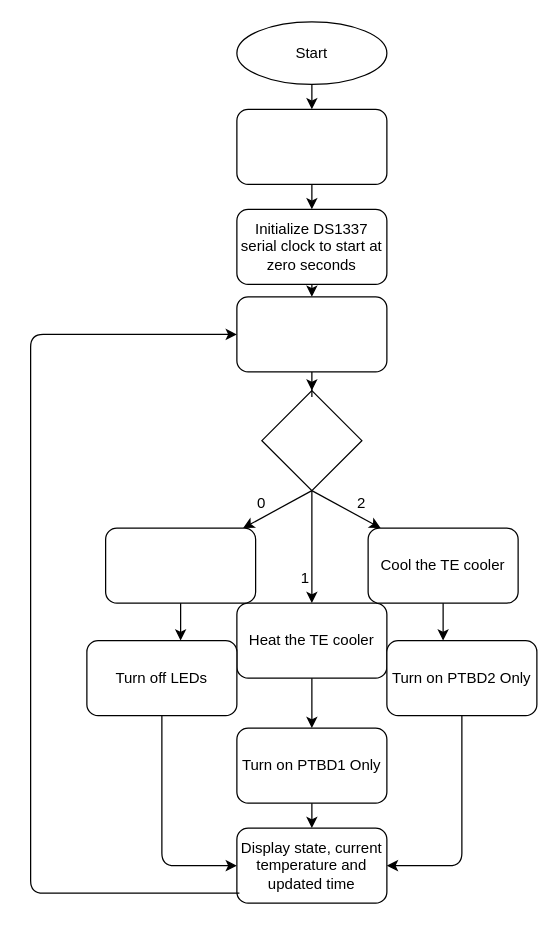
The diagram is 559 pixels wide and 926 high, and some of its shapes have lost their labels. The centre of each missing label's shape, as x and y in pixels:
Initialize LM92 to read temperature register: the point at 311,146
Turn off the TE cooler: the point at 180,565
Wait for button press: the point at 311,334
What button was pressed?: the point at 311,440
